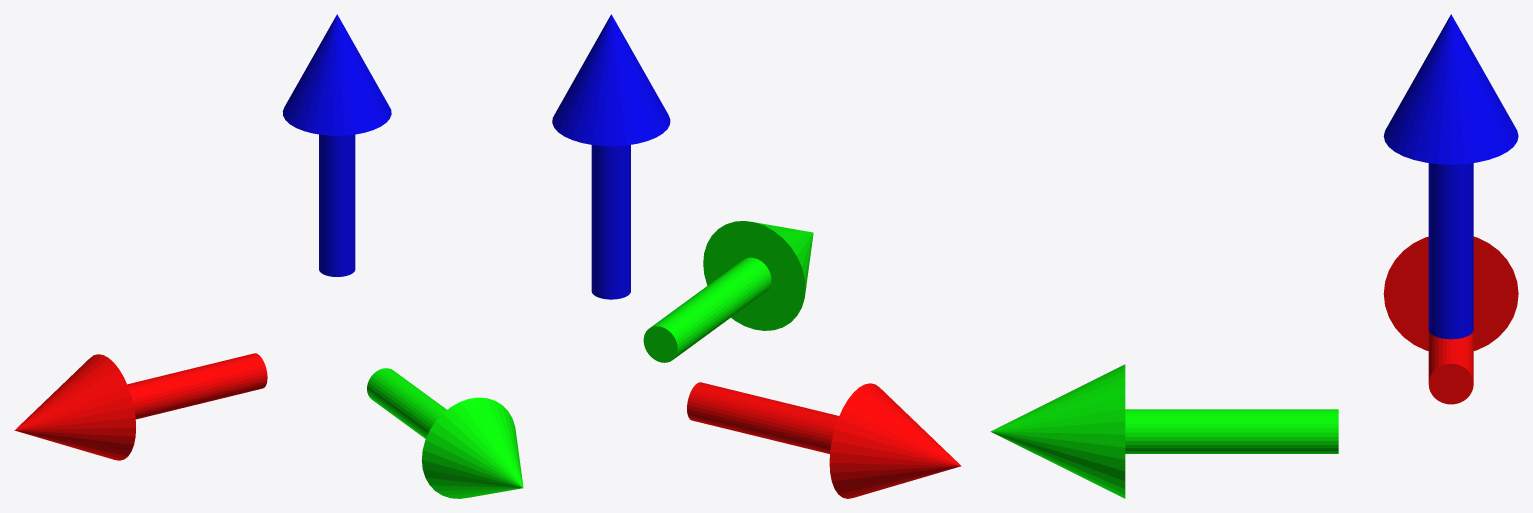
Rendered from arrows.obj.
3 renders of one model, left to right at view 1: azimuth 30°, elevation 25°; view 2: azimuth 150°, elevation 25°; view 3: azimuth 270°, elevation 25°, orthographic. The views are drawn at different scales.
Visible parts, largest first — view 1: Cylinder, Cylinder.002, Cylinder.001; view 2: Cylinder, Cylinder.002, Cylinder.001; view 3: Cylinder, Cylinder.001, Cylinder.002.
Part boxes in pixels (box(x1,y1,x2,y2)): Cylinder: box(282, 14, 391, 276); Cylinder.002: box(14, 353, 267, 460); Cylinder.001: box(367, 368, 523, 498); Cylinder: box(552, 14, 670, 299); Cylinder.002: box(687, 382, 961, 498); Cylinder.001: box(643, 221, 813, 362); Cylinder: box(1383, 14, 1518, 339); Cylinder.001: box(990, 364, 1338, 498); Cylinder.002: box(1383, 236, 1518, 404).
Size of the model in its own units: 2.35 by 2.35 by 2.35.
